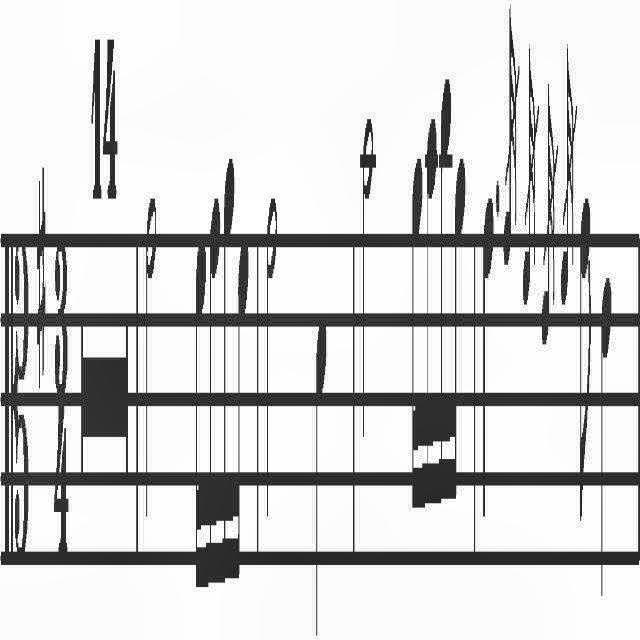Diez: (36, 162, 46, 394)
Eighth-note: (578, 185, 592, 532)
Half-note: (143, 185, 157, 530), (361, 106, 375, 444), (266, 182, 278, 530)
Quarter-note: (480, 195, 494, 530), (600, 265, 612, 615), (315, 317, 327, 638)
Sixteenth-note: (438, 74, 452, 530), (207, 180, 221, 600), (452, 146, 466, 542), (222, 150, 234, 606), (235, 223, 249, 612), (424, 92, 436, 544), (194, 224, 206, 616), (410, 150, 422, 536)
